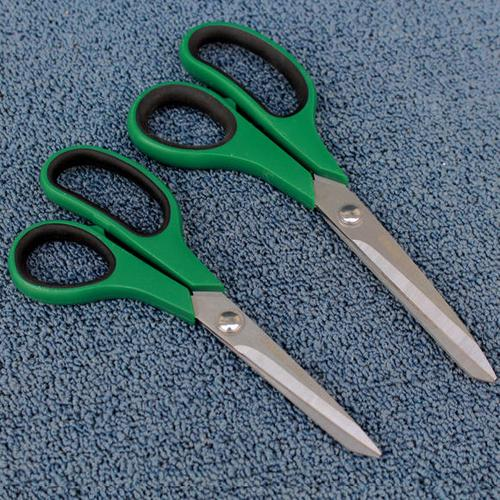scissor: (124, 21, 499, 391), (5, 144, 384, 462)
